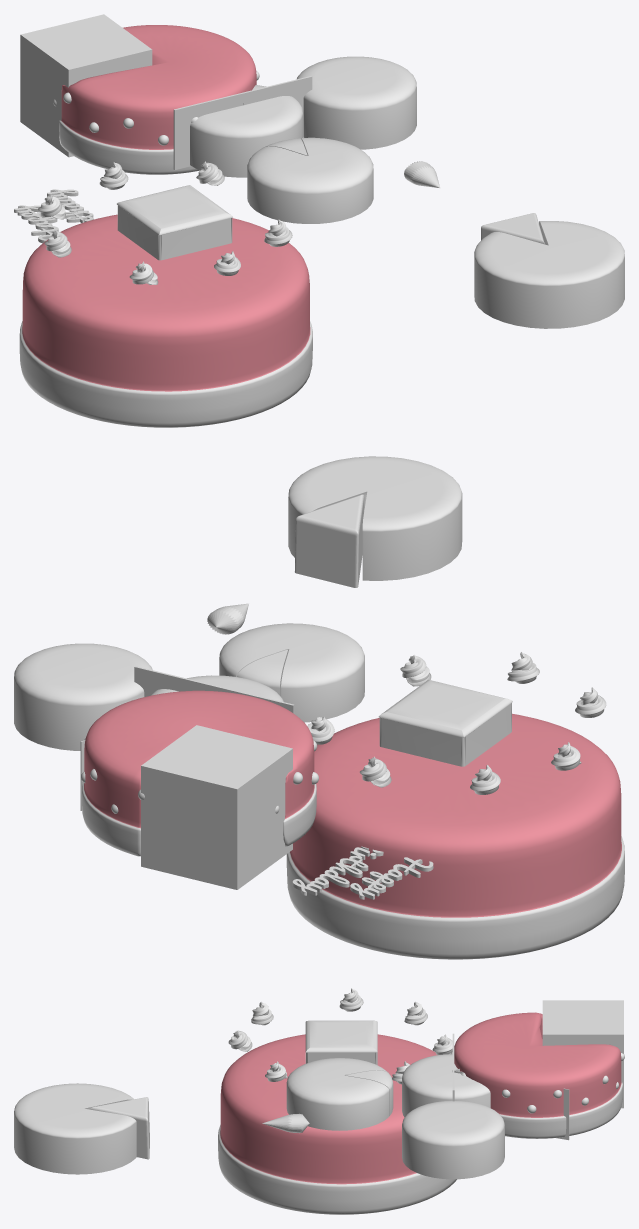
The model's file is cake3d.fbx.
The picture shows the model from 3 angles, top to bottom: view 1: azimuth 30°, elevation 25°; view 2: azimuth 150°, elevation 25°; view 3: azimuth 270°, elevation 25°; orthographic projection. The views are drawn at different scales.
Parts seen in each view (by area): view 1: Cake layer 1.001, Cake layer 1, Cylinder, CAKE WHOLE, Cylinder.002, Cube, Cube.002, CAKE CUT, central divider, Text, Cube.001, Cone; view 2: Cake layer 1.001, Cube, Cake layer 1, Cylinder, CAKE WHOLE, Cylinder.002, Cube.002, Cube.001, Text, central divider, Cylinder.001, CAKE CUT (+1 smaller); view 3: Cake layer 1.001, Cake layer 1, Cylinder, CAKE WHOLE, Cylinder.002, Cube, CAKE CUT, Cube.002, Cube.001, Cone, Cylinder.001, Spiral.004 (+4 smaller).
Boxes of the visible parts, x1,y1,x2,y2 form: Cake layer 1.001: (19,214,312,427); Cake layer 1: (59,25,256,174); Cylinder: (474,221,624,328); CAKE WHOLE: (297,56,416,149); Cylinder.002: (247,137,373,223); Cube: (20,14,152,157); Cube.002: (117,185,232,260); CAKE CUT: (190,85,302,177); central divider: (173,76,312,169); Text: (14,189,93,243); Cube.001: (481,213,544,244); Cone: (404,161,439,187); Cake layer 1.001: (286,713,624,959); Cube: (141,725,292,889); Cake layer 1: (82,690,316,856); Cylinder: (288,456,462,580); CAKE WHOLE: (14,643,152,750); Cylinder.002: (219,623,364,722); Cube.002: (378,679,512,766); Cube.001: (294,494,364,587); Text: (292,846,433,899); central divider: (134,666,294,713); Cylinder.001: (237,649,288,696); CAKE CUT: (151,675,283,701); Cake layer 1.001: (218,1034,456,1214); Cake layer 1: (454,1012,622,1138); Cylinder: (14,1083,136,1174); CAKE WHOLE: (402,1100,504,1179); Cylinder.002: (286,1058,389,1130); Cube: (542,1000,623,1108); CAKE CUT: (402,1054,490,1117); Cube.002: (305,1020,377,1064); Cube.001: (90,1097,149,1159); Cone: (262,1113,309,1133); Cylinder.001: (345,1070,393,1115); Spiral.004: (339,988,363,1011).
Size of the model in its own units: 1522 by 684 by 2193.
